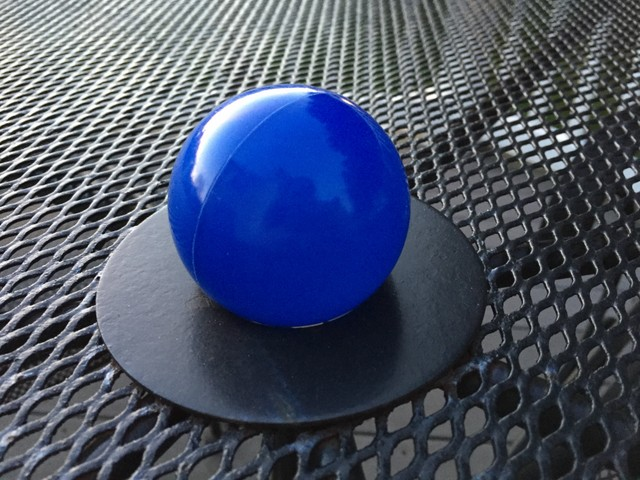Ball: (170, 87, 413, 330)
